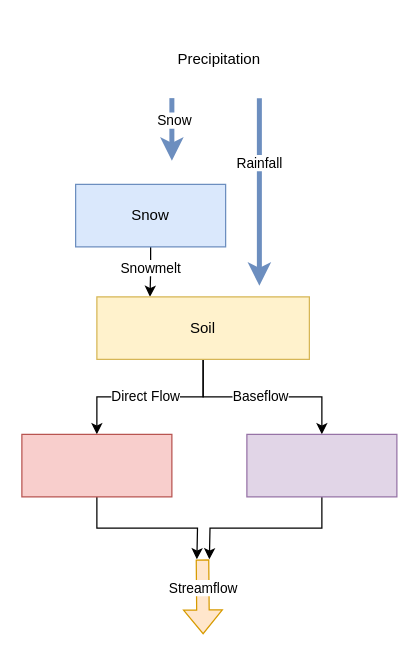
Image size: 419x655. Some labels were removed from this diagram. Here are the shapes that lost their labels. From the top down, the centre of each, then its label:
pixel 96 465: Quick Storage Tank
pixel 321 465: Slow Storage Tank
